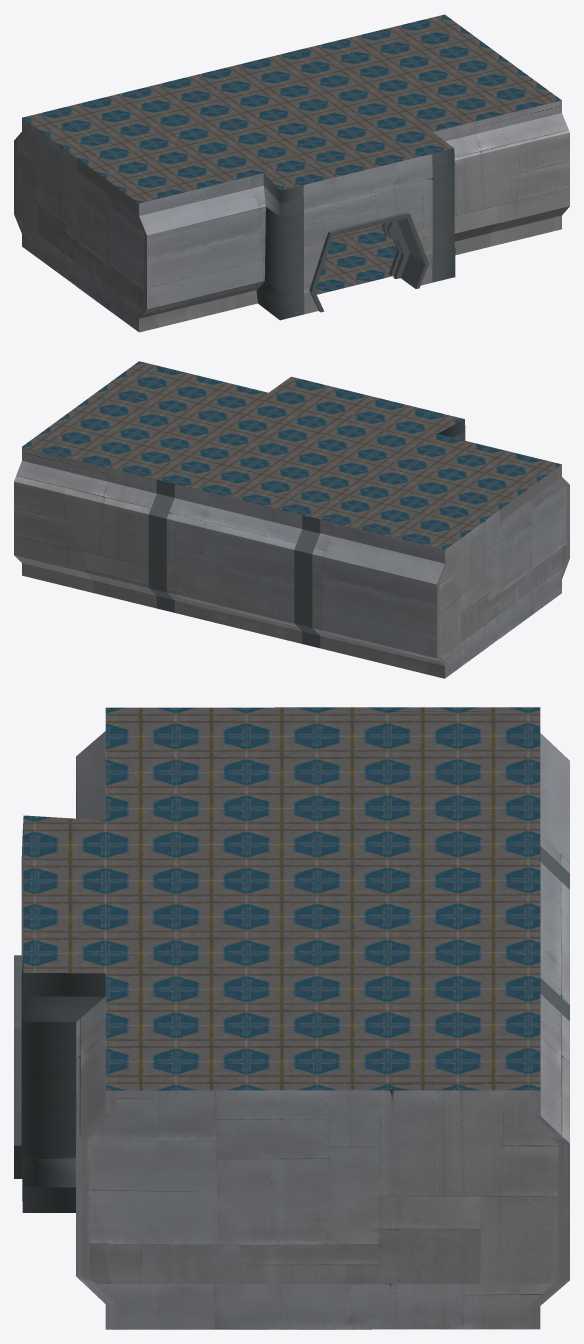
The model's file is almacen_largo_arriba.obj.
3 views of the same model, one above another, from view 1: azimuth 30°, elevation 25°; view 2: azimuth 150°, elevation 25°; view 3: azimuth 270°, elevation 25° (orthographic). The views are drawn at different scales.
Parts seen in each view (by area): view 1: polySurface2259; view 2: polySurface2259; view 3: polySurface2259.
Part boxes in pixels (x1=…): polySurface2259: x1=14, y1=14, x2=569, y2=332; polySurface2259: x1=14, y1=361, x2=569, y2=678; polySurface2259: x1=14, y1=707, x2=569, y2=1329.
Bounding box in the file's own units: 69.43 × 20.32 × 42.6.
